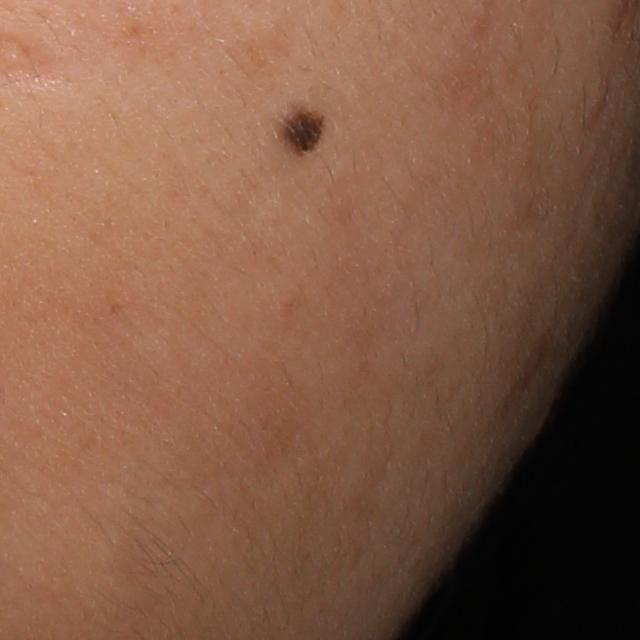nevus: (269, 88, 329, 158)
